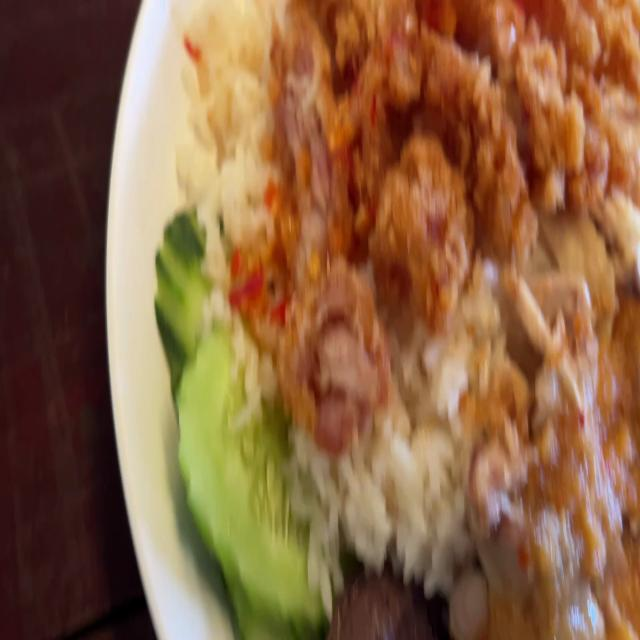boiled_chicken: (445, 309, 640, 640)
boiled_chicken_blood_jelly: (333, 550, 442, 640)
chicken_rice: (155, 0, 640, 640)
cucumber: (157, 204, 328, 624)
fried_chicken: (242, 0, 640, 418)
